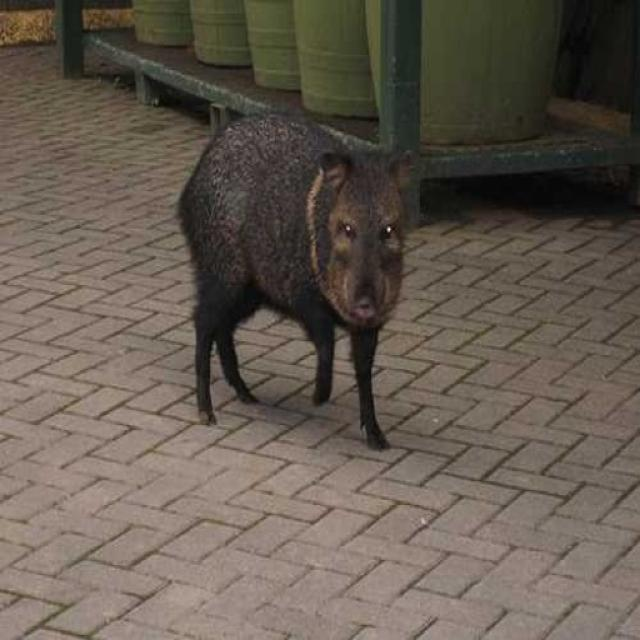pig: (138, 52, 466, 409)
